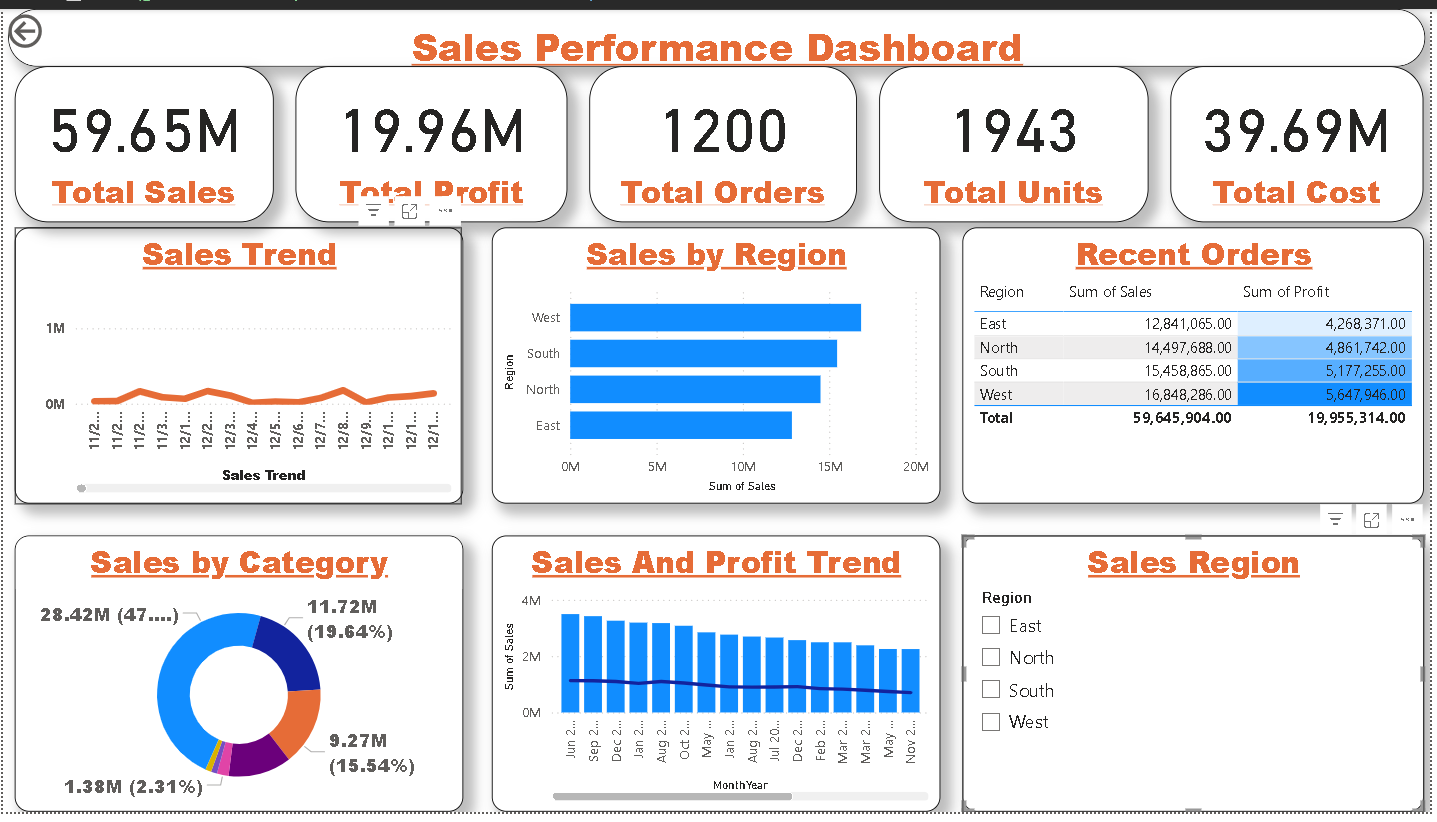

The page's visual inventory and layout, read from the dashboard file:
{"tool":"powerbi","page":{"name":"Page 2","canvas":[1280,720],"ordinal":0},"visuals":[{"type":"textbox","title":"Sales Performance Dashboard","box":[4.3,0,1270.5,51.7],"z":0},{"type":"card","fields":{"Values":["Date.Total Sales"]},"box":[10,51.7,232,140],"z":1000},{"type":"card","fields":{"Values":["Date.Total Profit"]},"box":[261.8,51.7,244,140],"z":2000},{"type":"card","fields":{"Values":["Date.Total Orders"]},"box":[525.5,51.7,240,140],"z":3000},{"type":"card","fields":{"Values":["Date.Total Units"]},"box":[785.2,51.7,241.7,140],"z":4000},{"type":"card","fields":{"Values":["Date.Total Cost"]},"box":[1046.7,51.7,226.7,140],"z":5000},{"type":"lineChart","title":"Sales Trend","fields":{"Category":["SalesData.OrderDate"],"Y":["Sum(SalesData.Sales)"]},"box":[10,196,402,248],"z":6000},{"type":"clusteredBarChart","title":"Sales by Region","fields":{"Category":["SalesData.Region"],"Y":["Sum(SalesData.Sales)"]},"box":[438,196,402,248],"z":7000},{"type":"donutChart","title":"Sales by Category","fields":{"Category":["SalesData.Category"],"Y":["Sum(SalesData.Sales)"]},"box":[10,472,402,248],"z":8000},{"type":"tableEx","title":"Recent Orders","fields":{"Values":["SalesData.Region","Sum(SalesData.Sales)","Sum(SalesData.Profit)"]},"box":[860,196,414,248],"z":9000},{"type":"actionButton","box":[0,0,100,40],"z":10000},{"type":"slicer","title":"Sales Region","fields":{"Values":["SalesData.Region"]},"box":[860,472,414,248],"z":11000},{"type":"lineClusteredColumnComboChart","title":"Sales And Profit Trend","fields":{"Category":["SalesData.MonthYear"],"Y2":["Sum(SalesData.Profit)"],"Y":["Sum(SalesData.Sales)"]},"box":[438,472,402,248],"z":12000}]}

Visuals, with their boxes in screenshot pixels (x1, y1, x2, y2):
"Sales Performance Dashboard" textbox: [x1=9, y1=7, x2=1415, y2=65]
card - Date.Total Sales: [x1=15, y1=65, x2=272, y2=220]
card - Date.Total Profit: [x1=294, y1=65, x2=564, y2=220]
card - Date.Total Orders: [x1=586, y1=65, x2=851, y2=220]
card - Date.Total Units: [x1=873, y1=65, x2=1141, y2=220]
card - Date.Total Cost: [x1=1163, y1=65, x2=1414, y2=220]
"Sales Trend" lineChart: [x1=15, y1=224, x2=460, y2=499]
"Sales by Region" clusteredBarChart: [x1=489, y1=224, x2=934, y2=499]
"Sales by Category" donutChart: [x1=15, y1=530, x2=460, y2=805]
"Recent Orders" tableEx: [x1=956, y1=224, x2=1414, y2=499]
actionButton: [x1=4, y1=7, x2=114, y2=52]
"Sales Region" slicer: [x1=956, y1=530, x2=1414, y2=805]
"Sales And Profit Trend" lineClusteredColumnComboChart: [x1=489, y1=530, x2=934, y2=805]
